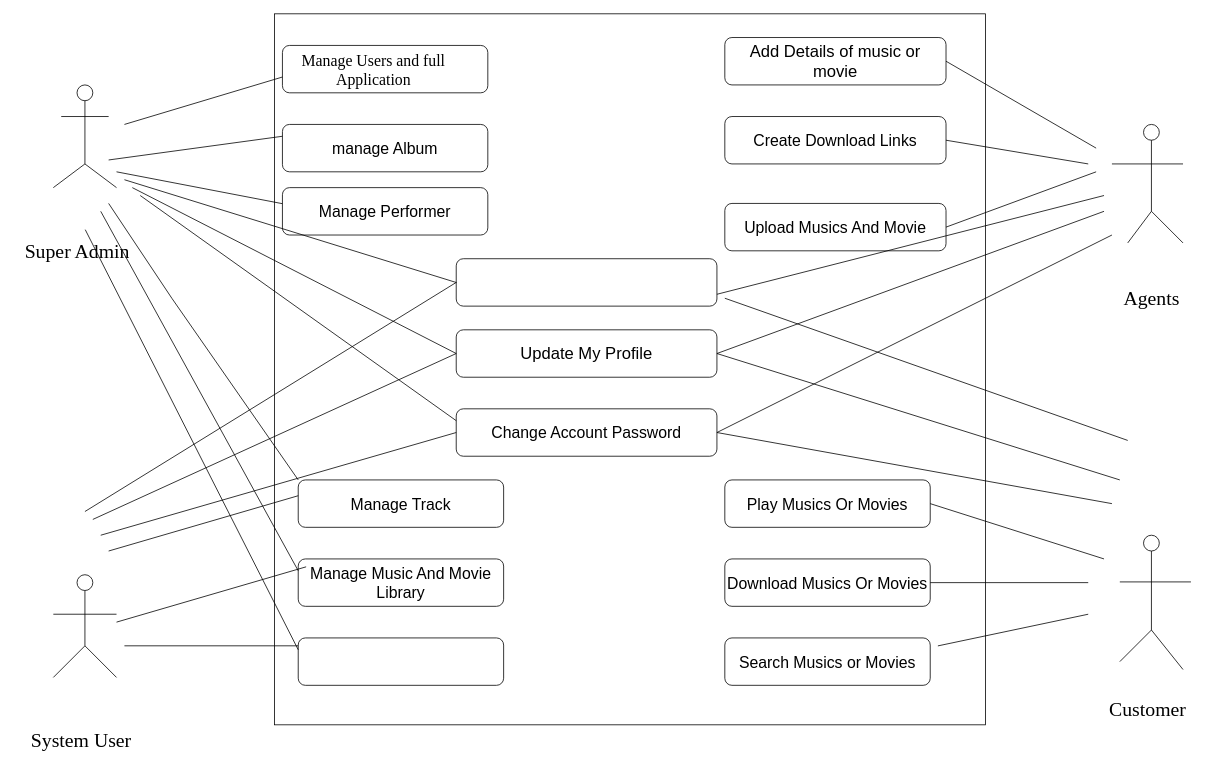
Some shapes in this 1208 by 770 pixel diagram are drawn without their labels. The box of each missing label's shape, as (x1, y1, x2, y2) in pixels:
Login And Logout from System: (455, 258, 717, 306)
Mange Singer: (297, 637, 504, 685)
